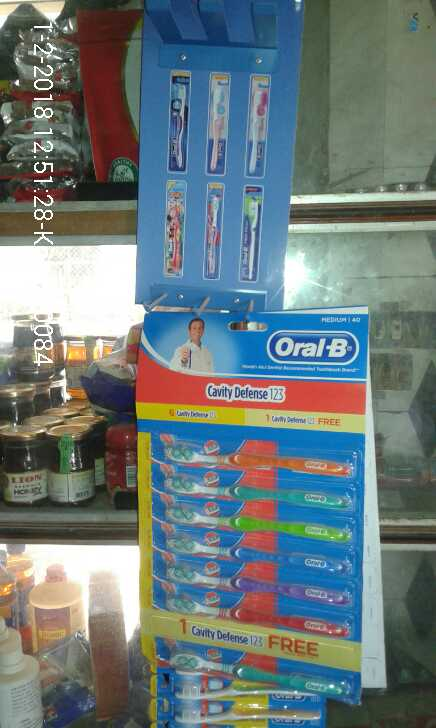oralb: (163, 493, 360, 548), (154, 552, 366, 603), (153, 593, 356, 646), (147, 436, 382, 477), (162, 469, 359, 508), (157, 536, 359, 568)
